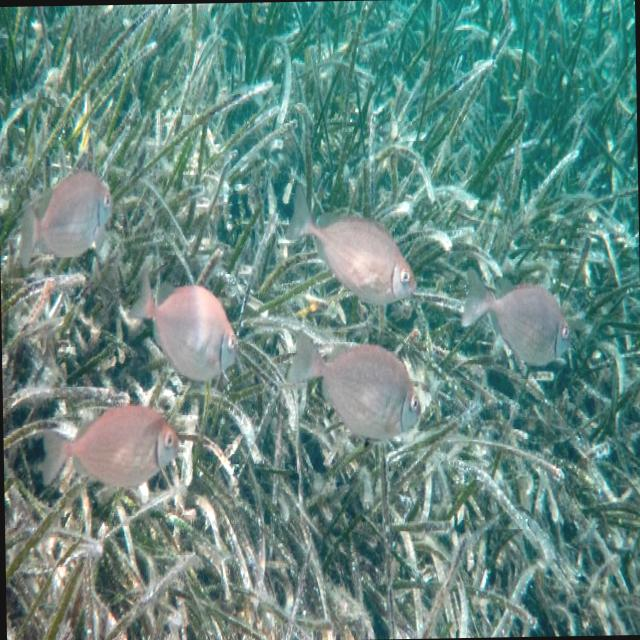Sokar Baligi: (280, 312, 426, 458), (277, 168, 418, 312), (124, 250, 241, 388), (30, 396, 188, 496), (5, 161, 127, 283), (458, 254, 574, 371)
